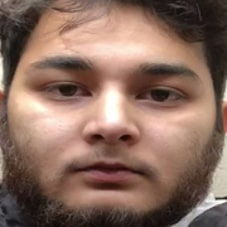awake: (23, 45, 207, 203)
